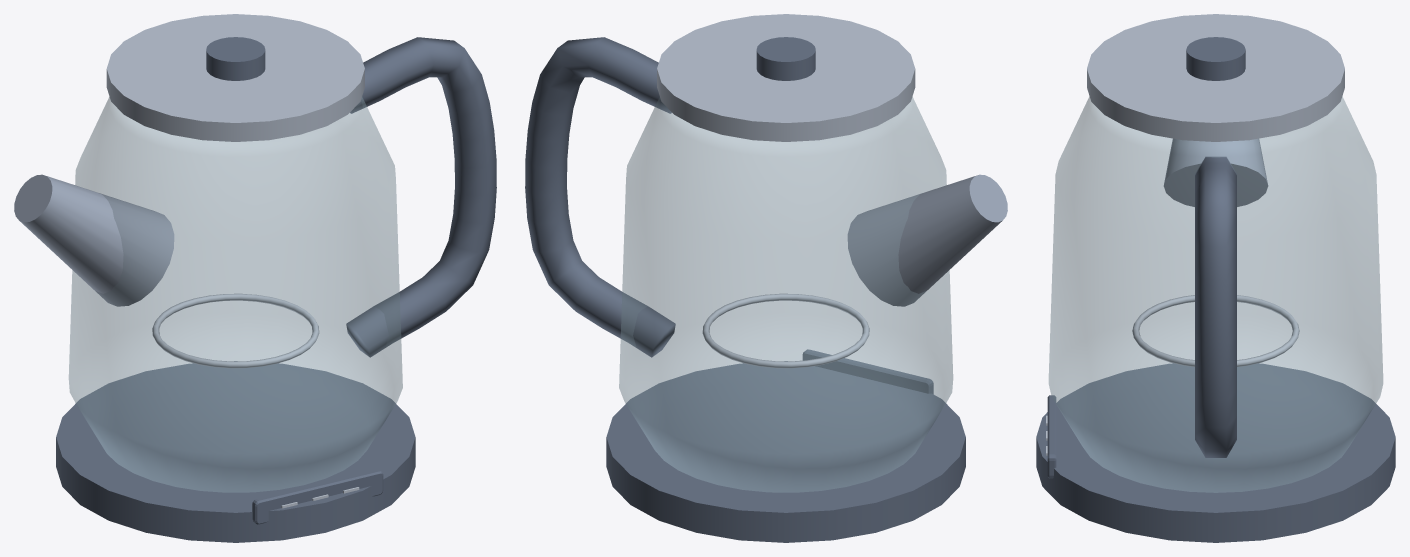
Rendered from 养生壶-lite.glb.
3 views of the same model, side by side, from view 1: azimuth 30°, elevation 25°; view 2: azimuth 150°, elevation 25°; view 3: azimuth 270°, elevation 25° (orthographic).
Visible parts, largest first — view 1: glass, dark, soft, body, light; view 2: glass, dark, soft, body, light; view 3: glass, dark, soft, body, light.
Part boxes in pixels (<box>): glass: <box>68,97,402,492</box>; dark: <box>56,37,496,542</box>; soft: <box>106,14,364,141</box>; body: <box>14,174,174,306</box>; light: <box>152,293,359,508</box>; glass: <box>619,97,953,492</box>; dark: <box>525,37,965,542</box>; soft: <box>657,14,915,141</box>; body: <box>847,174,1007,306</box>; light: <box>702,293,869,368</box>; glass: <box>1048,96,1383,492</box>; dark: <box>1036,37,1395,542</box>; soft: <box>1087,14,1344,141</box>; body: <box>1163,138,1268,206</box>; light: <box>1046,295,1299,455</box>.
Bounding box in the file's own units: 0.3127 × 0.264 × 0.206.
